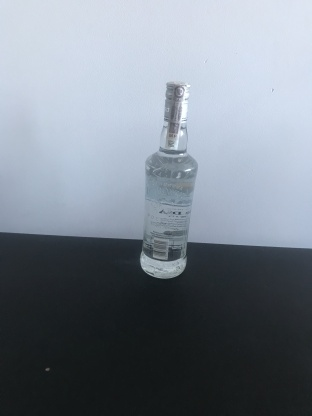nakretka: (161, 76, 192, 124)
